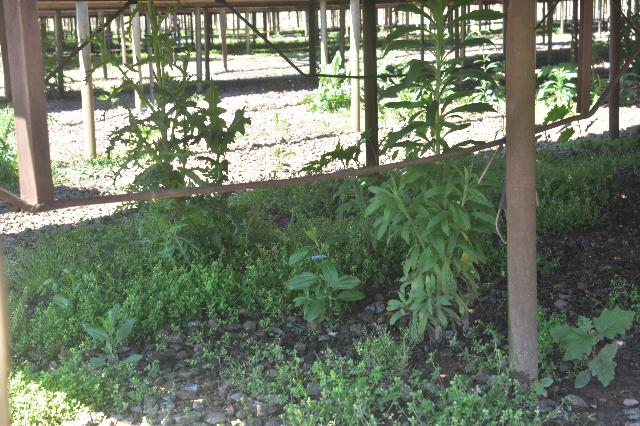MalezaMontesDelPlata: (370, 164, 491, 348), (379, 0, 503, 169), (101, 1, 201, 186), (9, 219, 140, 349), (250, 342, 393, 426), (540, 129, 640, 232), (279, 222, 360, 334), (139, 258, 278, 319), (133, 189, 250, 260), (550, 302, 635, 384), (190, 82, 255, 187), (86, 300, 142, 379), (537, 60, 584, 120)
